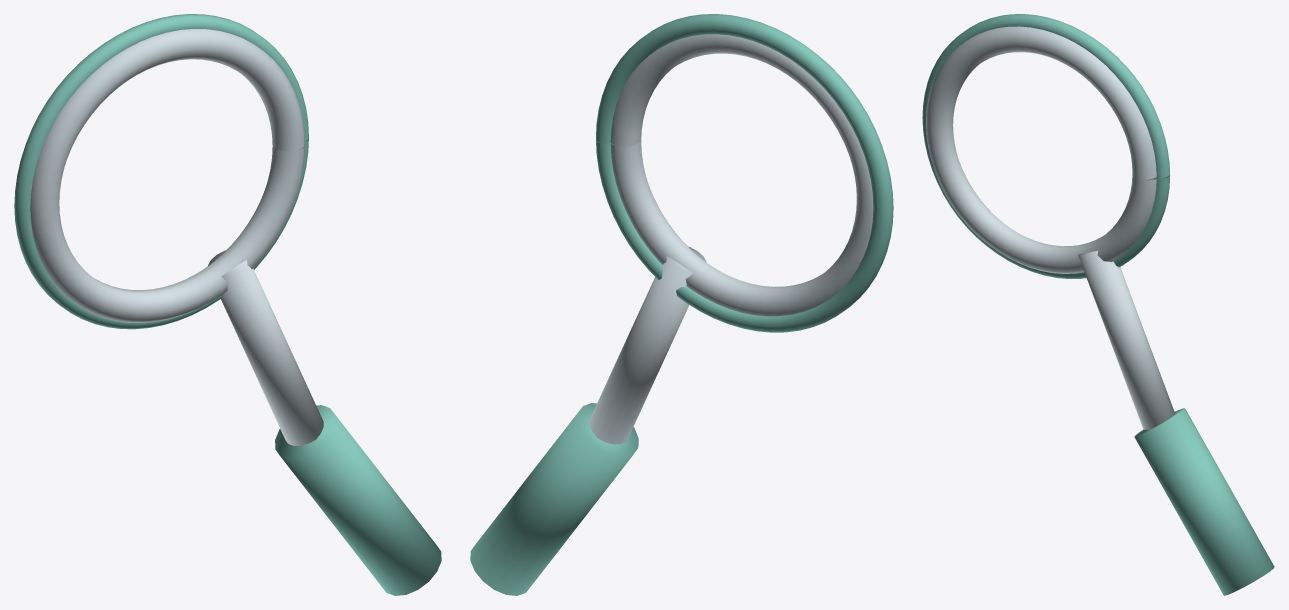
The model's file is tool-mouth.glb.
The picture shows the model from 3 angles, left to right: view 1: azimuth 30°, elevation 25°; view 2: azimuth 150°, elevation 25°; view 3: azimuth 330°, elevation 25°; orthographic projection. The views are drawn at different scales.
Parts seen in each view (by area): view 1: optical metal rim.001, grip.001, protective rim.001, neck.001; view 2: optical metal rim.001, protective rim.001, grip.001, neck.001; view 3: optical metal rim.001, grip.001, protective rim.001, neck.001.
Boxes of the visible parts, box(x1,y1,x2,y2) form: optical metal rim.001: box(30, 29, 304, 322); grip.001: box(275, 405, 441, 595); protective rim.001: box(14, 14, 308, 329); neck.001: box(208, 250, 323, 445); optical metal rim.001: box(610, 34, 873, 316); protective rim.001: box(596, 14, 893, 332); grip.001: box(470, 403, 638, 595); neck.001: box(589, 246, 706, 444); optical metal rim.001: box(926, 26, 1156, 273); grip.001: box(1134, 408, 1274, 595); protective rim.001: box(922, 14, 1169, 278); neck.001: box(1078, 251, 1175, 429).
Size of the model in its own units: 1.02 by 1.46 by 0.148.
